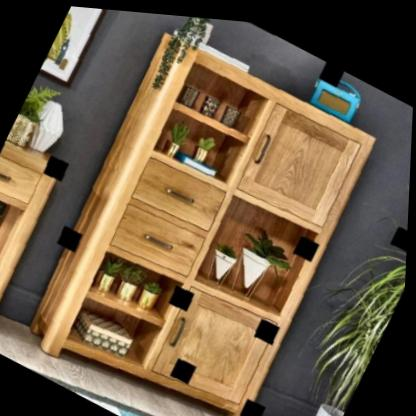Cupboard: (20, 15, 390, 416)
